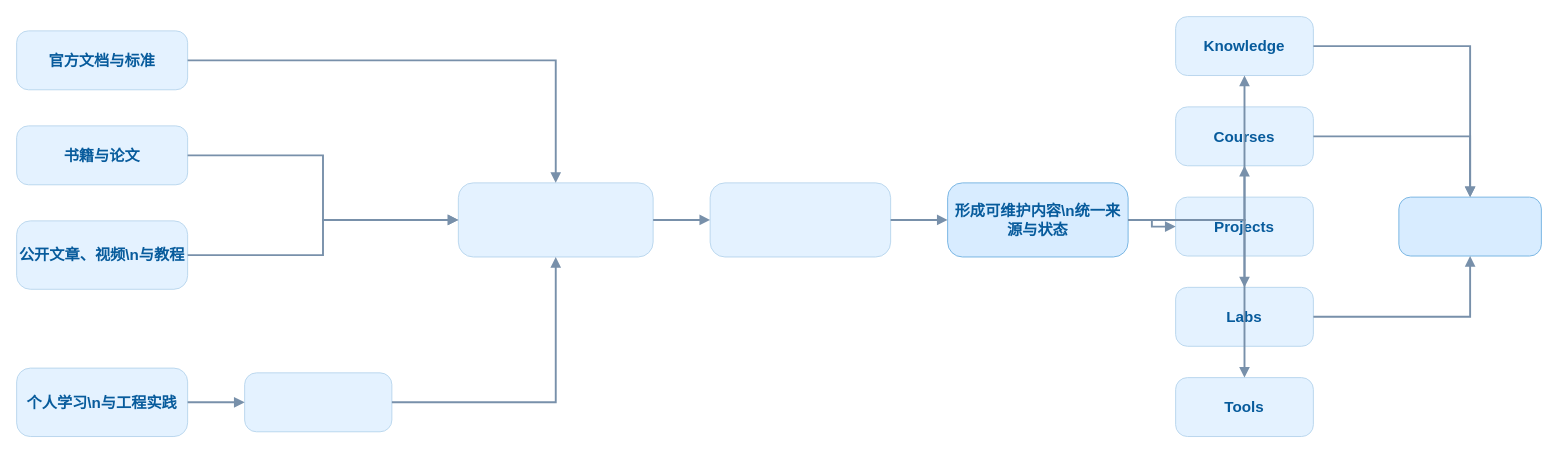
The diagram is 1558 pixels wide and 453 high, and some of its shapes have lost their labels. The centre of each missing label's shape, as x and y in pixels:
Notes\n原始记录: the point at 318,402
Paths: the point at 1469,226
整理与技术验证\n核对关键结论: the point at 800,219
来源记录、研究\n与许可判断: the point at 555,219
